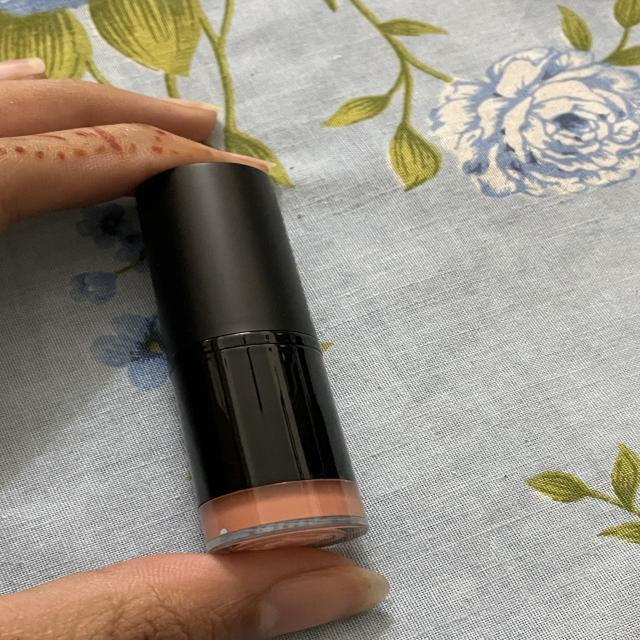lip stick: (100, 148, 400, 561)
